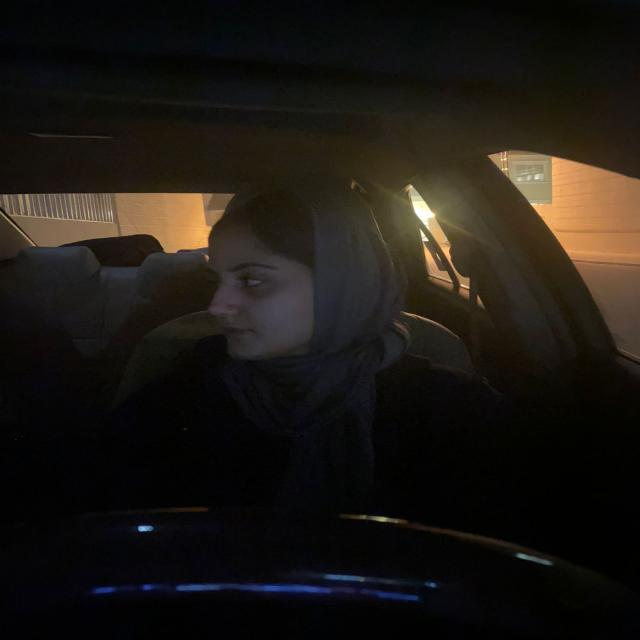LeftRight: (192, 175, 402, 369)
